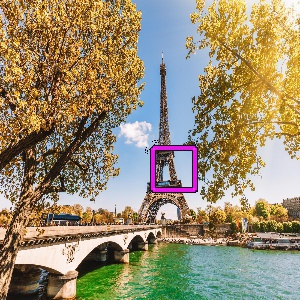square: (148, 144, 200, 195)
